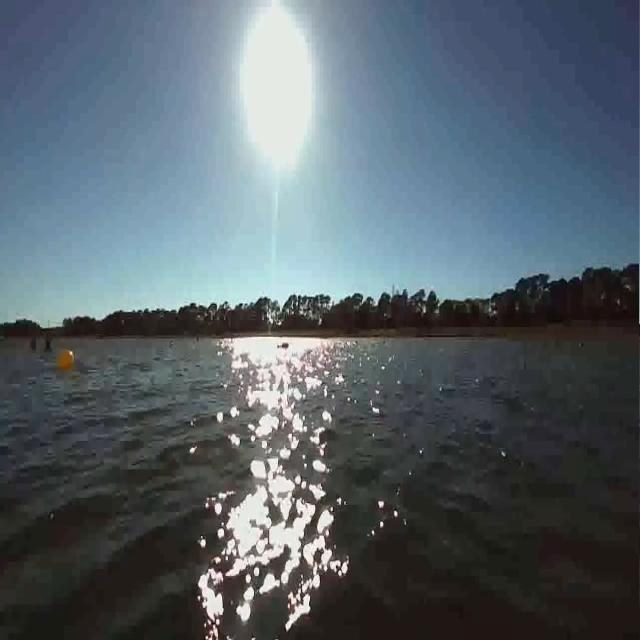yellow-buoy: (58, 347, 76, 373)
